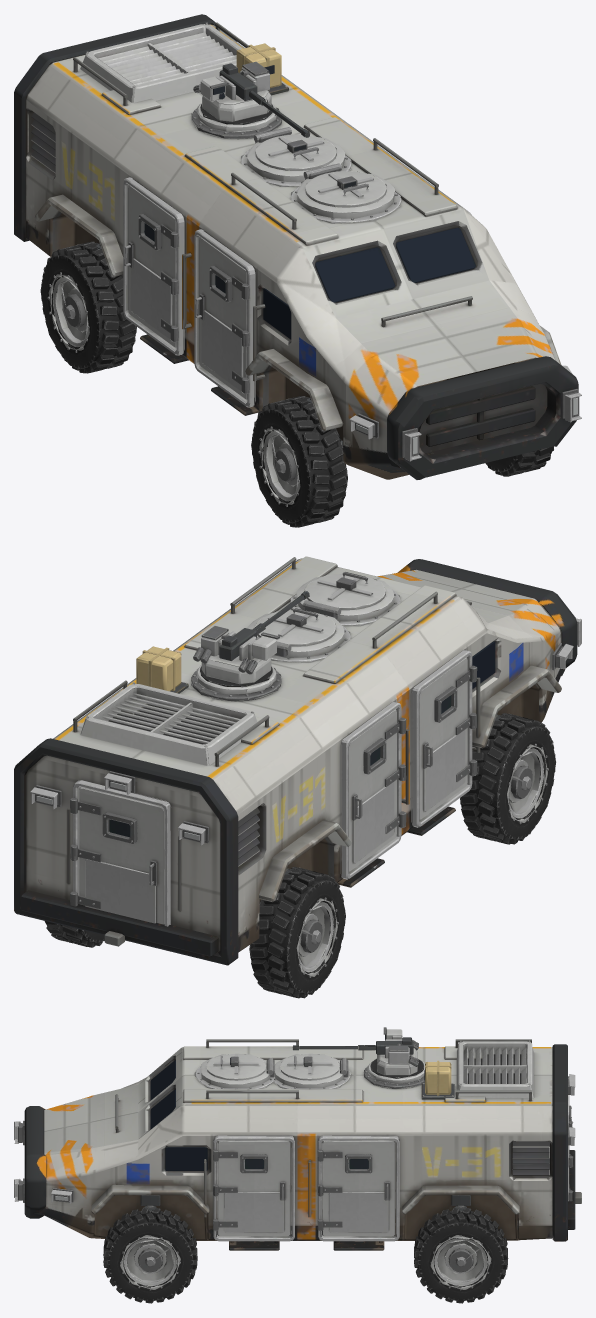
Rendered from vehicle.glb.
The picture shows the model from 3 angles, top to bottom: view 1: azimuth 30°, elevation 25°; view 2: azimuth 150°, elevation 25°; view 3: azimuth 270°, elevation 25°; orthographic projection. The views are drawn at different scales.
Visible parts, largest first — view 1: hull, parts_wheel, parts_vehicleDoor, parts_roofHatch, parts_vent, parts_rws, parts_markerLamp, parts_foilBox; view 2: hull, parts_vehicleDoor, parts_wheel, parts_vent, parts_roofHatch, parts_rws, parts_markerLamp, parts_foilBox; view 3: hull, parts_vehicleDoor, parts_wheel, parts_roofHatch, parts_vent, parts_rws, parts_foilBox, parts_markerLamp, parts_suspension.
Part boxes in pixels (x1=…): hull: x1=14, y1=14, x2=578, y2=479; parts_wheel: x1=40, y1=241, x2=553, y2=527; parts_vehicleDoor: x1=123, y1=177, x2=471, y2=407; parts_roofHatch: x1=241, y1=127, x2=401, y2=223; parts_vent: x1=80, y1=22, x2=242, y2=102; parts_rws: x1=191, y1=61, x2=309, y2=139; parts_markerLamp: x1=349, y1=365, x2=581, y2=461; parts_foilBox: x1=236, y1=43, x2=288, y2=95; hull: x1=14, y1=556, x2=577, y2=965; parts_vehicleDoor: x1=70, y1=650, x2=477, y2=926; parts_wheel: x1=44, y1=713, x2=556, y2=998; parts_vent: x1=80, y1=682, x2=257, y2=765; parts_roofHatch: x1=247, y1=572, x2=400, y2=662; parts_rws: x1=191, y1=591, x2=309, y2=701; parts_markerLamp: x1=30, y1=618, x2=581, y2=845; parts_foilBox: x1=136, y1=646, x2=188, y2=693; hull: x1=24, y1=1039, x2=581, y2=1250; parts_vehicleDoor: x1=213, y1=1078, x2=573, y2=1241; parts_wheel: x1=103, y1=1207, x2=508, y2=1303; parts_roofHatch: x1=194, y1=1053, x2=351, y2=1089; parts_vent: x1=456, y1=1040, x2=534, y2=1098; parts_rws: x1=292, y1=1027, x2=424, y2=1088; parts_foilBox: x1=421, y1=1060, x2=454, y2=1099; parts_markerLamp: x1=14, y1=1074, x2=575, y2=1204; parts_suspension: x1=140, y1=1195, x2=470, y2=1258.
Size of the model in its own units: 2.63 by 2.99 by 6.95.
9 materials, 9 textured.
